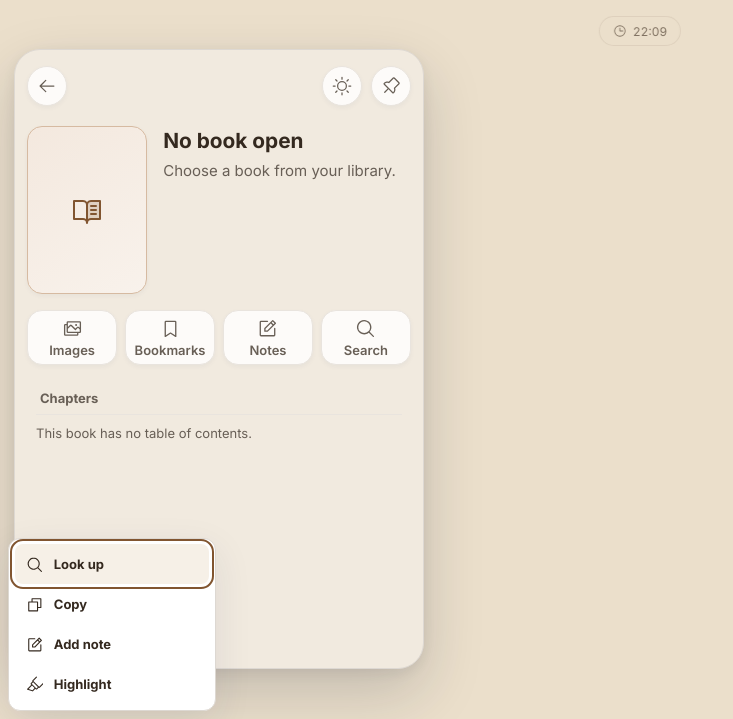
Reader notes through real actions › offers Look up, Copy, Add note and Highlight for selected book text, and image actions on an image
Expected: the button with aria-label "Notes (0)" is shown, [223,310,313,365]
Click the menu item "Highlight": (112,684) [15,664,209,704]
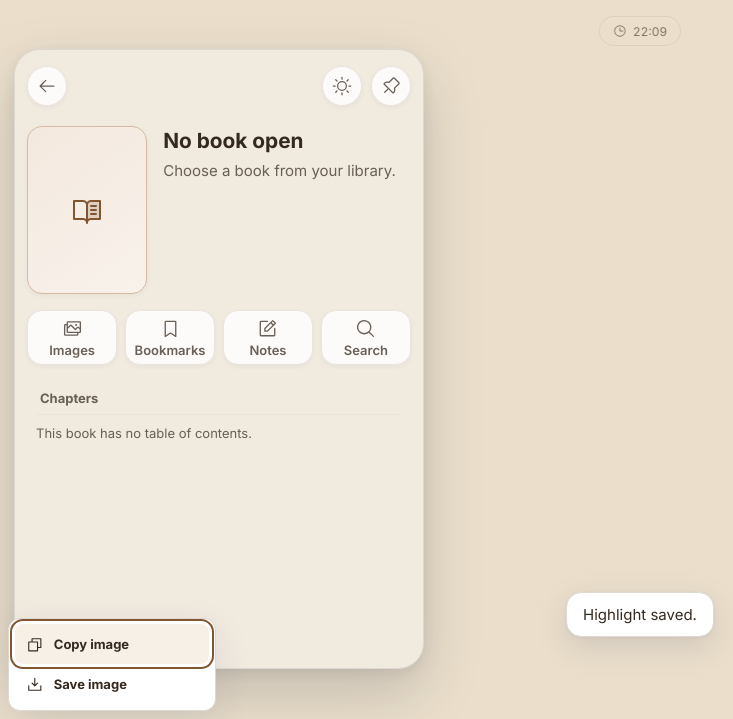
Result: the text "Highlight saved." is shown at [566,592,714,637]
Result: the menu items read "Copy image", "Save image", in this order
Click the menu item "Copy image": (112,644) [15,624,209,664]
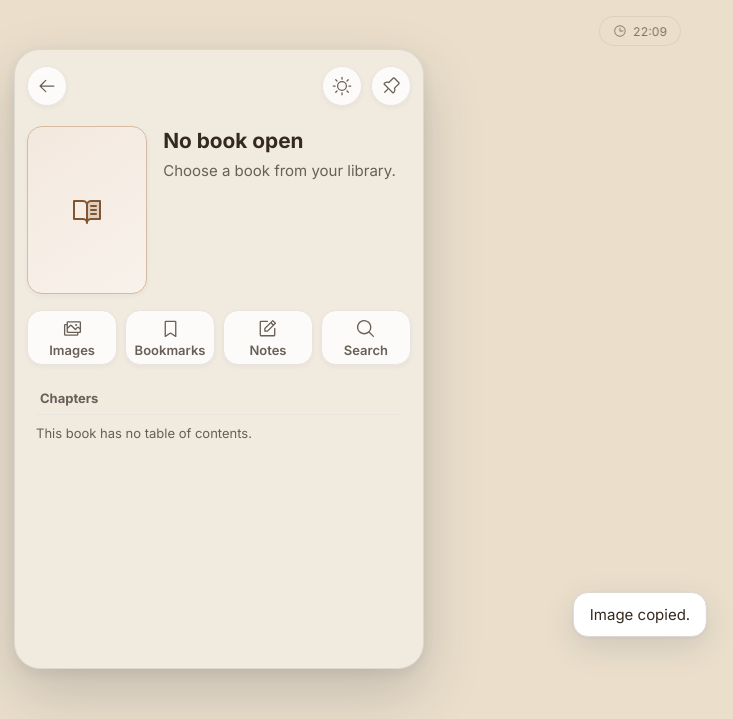
Result: the text "Image copied." is shown at [573,592,707,637]
